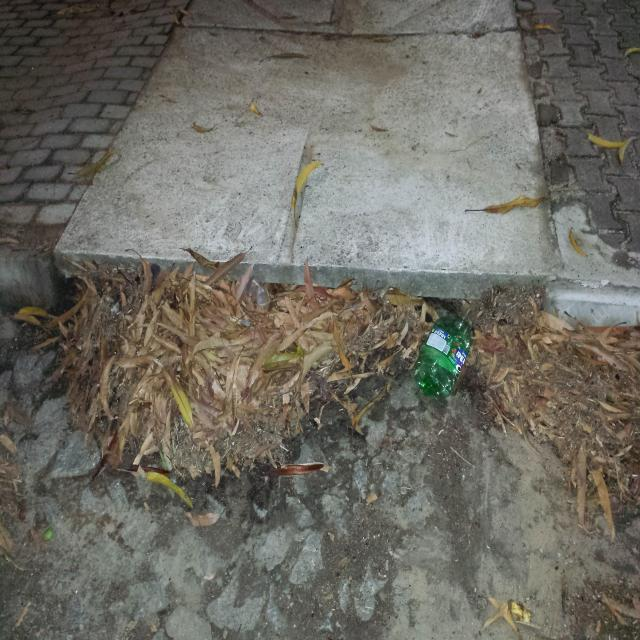litter: (414, 311, 472, 396), (244, 271, 268, 305)
